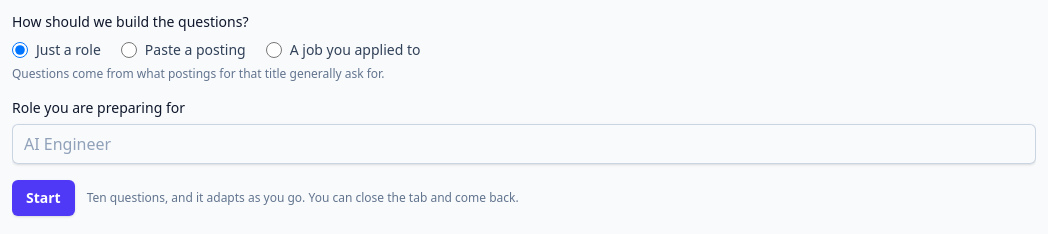
Test: StartInterview › picking a job you applied to › keeps the other two ways working when the list fails
The width and height of the screenshot is (1048, 234).
Click the radio button labelled "A job you applied to" at (274, 50), box x1=266 y1=42 x2=282 y2=58
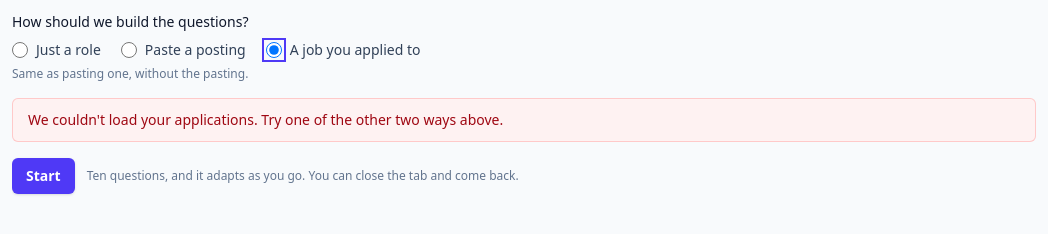
Now the message shows "couldn't load your applications", box x1=28 y1=110 x2=503 y2=129
Click the radio button labelled "Just a role" at (20, 50), box x1=12 y1=42 x2=28 y2=58
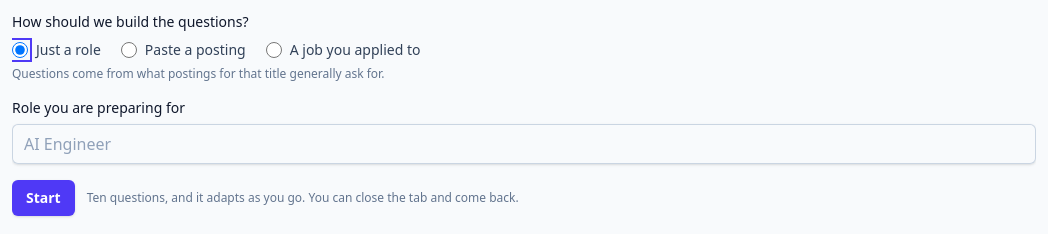
Now the field labelled "Role you are preparing for" is shown, box x1=12 y1=124 x2=1036 y2=164
